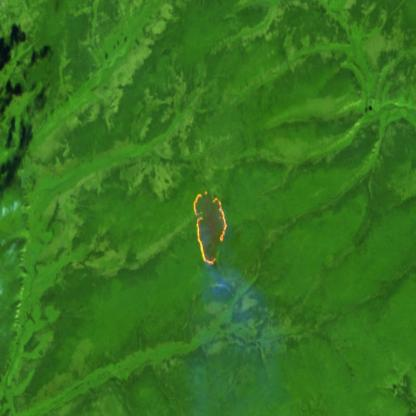fire: (191, 188, 229, 268)
